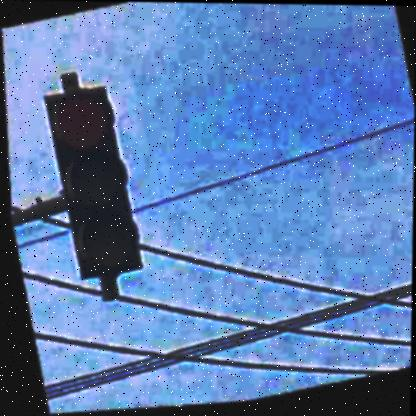Traffic Light -Red-: (39, 84, 145, 285)
